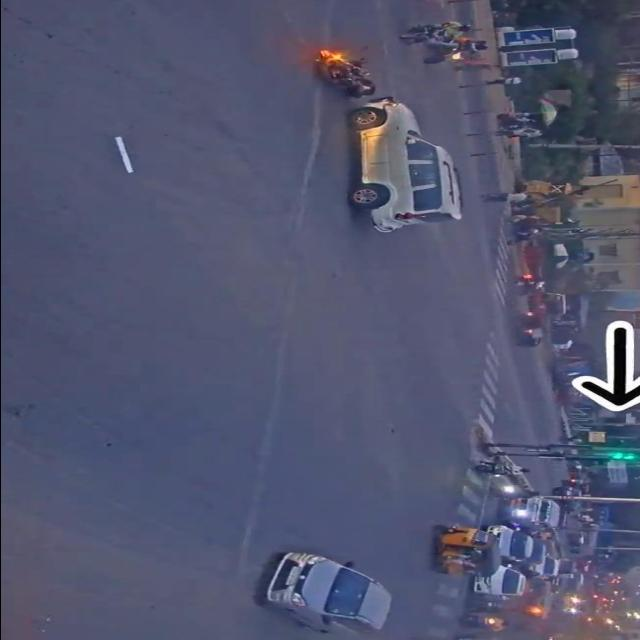accident: (291, 49, 475, 243)
non_accident: (421, 462, 559, 630), (395, 21, 497, 67)
